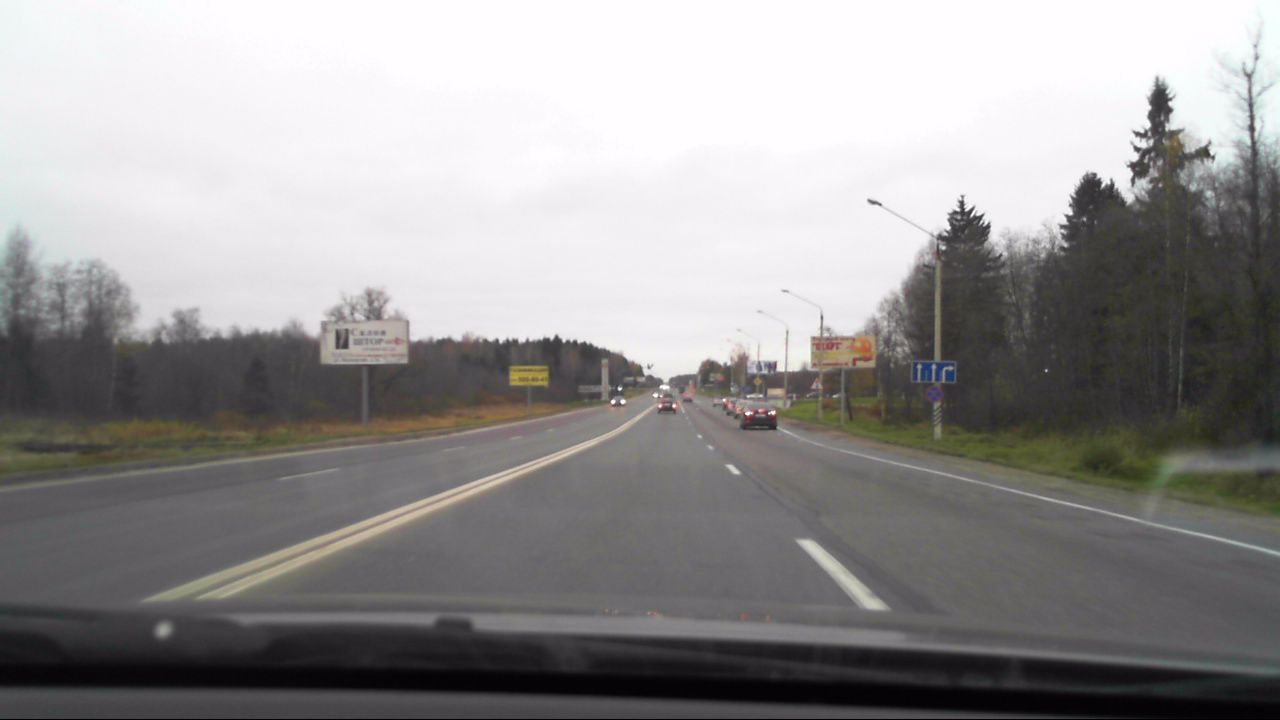No Parking: (923, 384, 942, 402)
